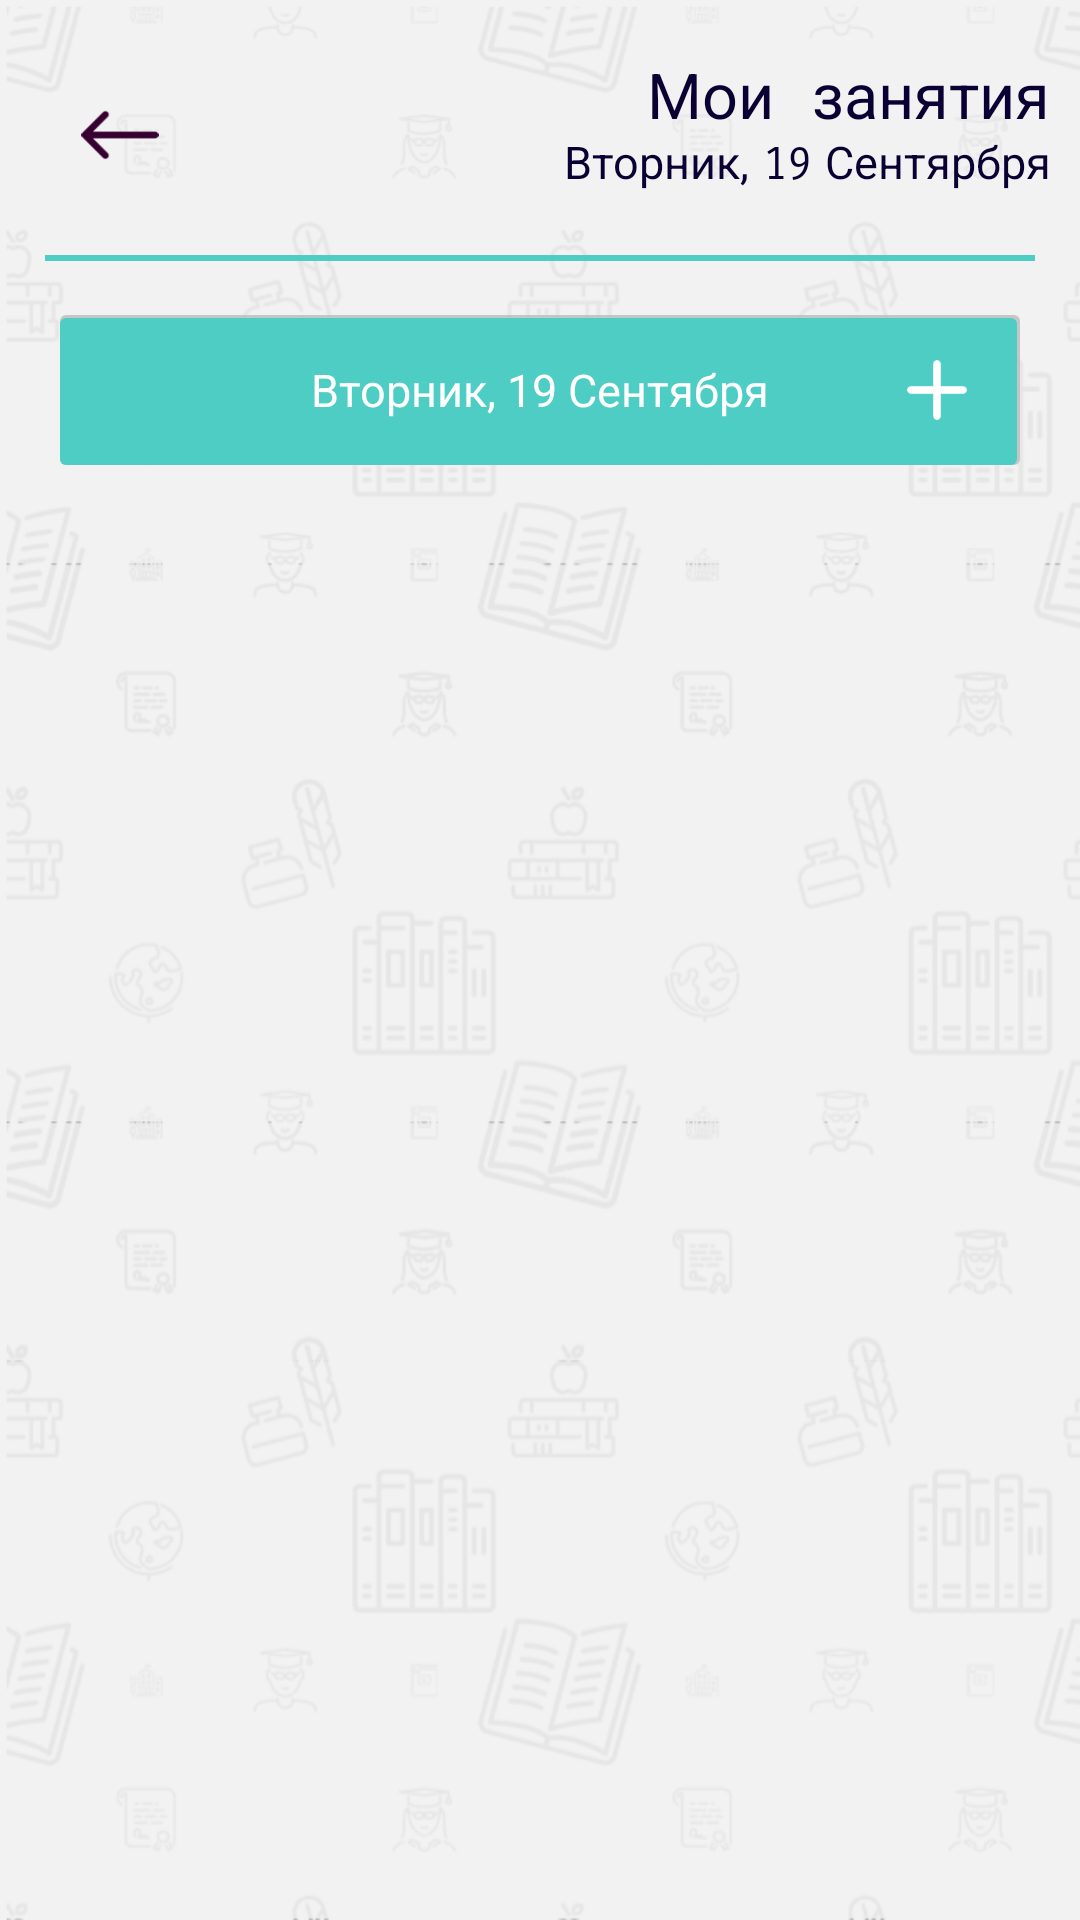

Named icons in this screenshot (1080w x 1920h) and their centers, (x,y):
add: (959,390)
left arrow: (120,135)
